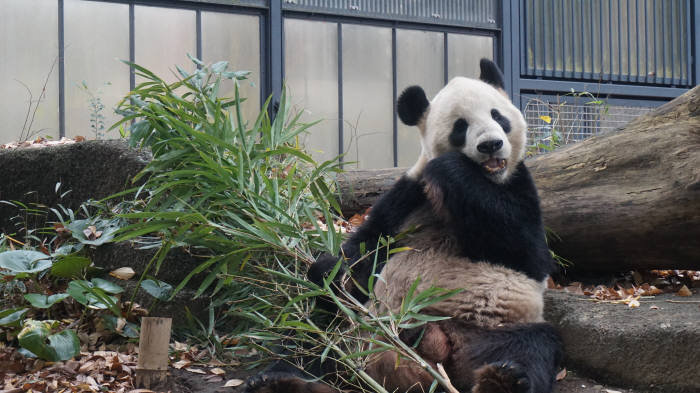panda: (343, 54, 583, 393)
